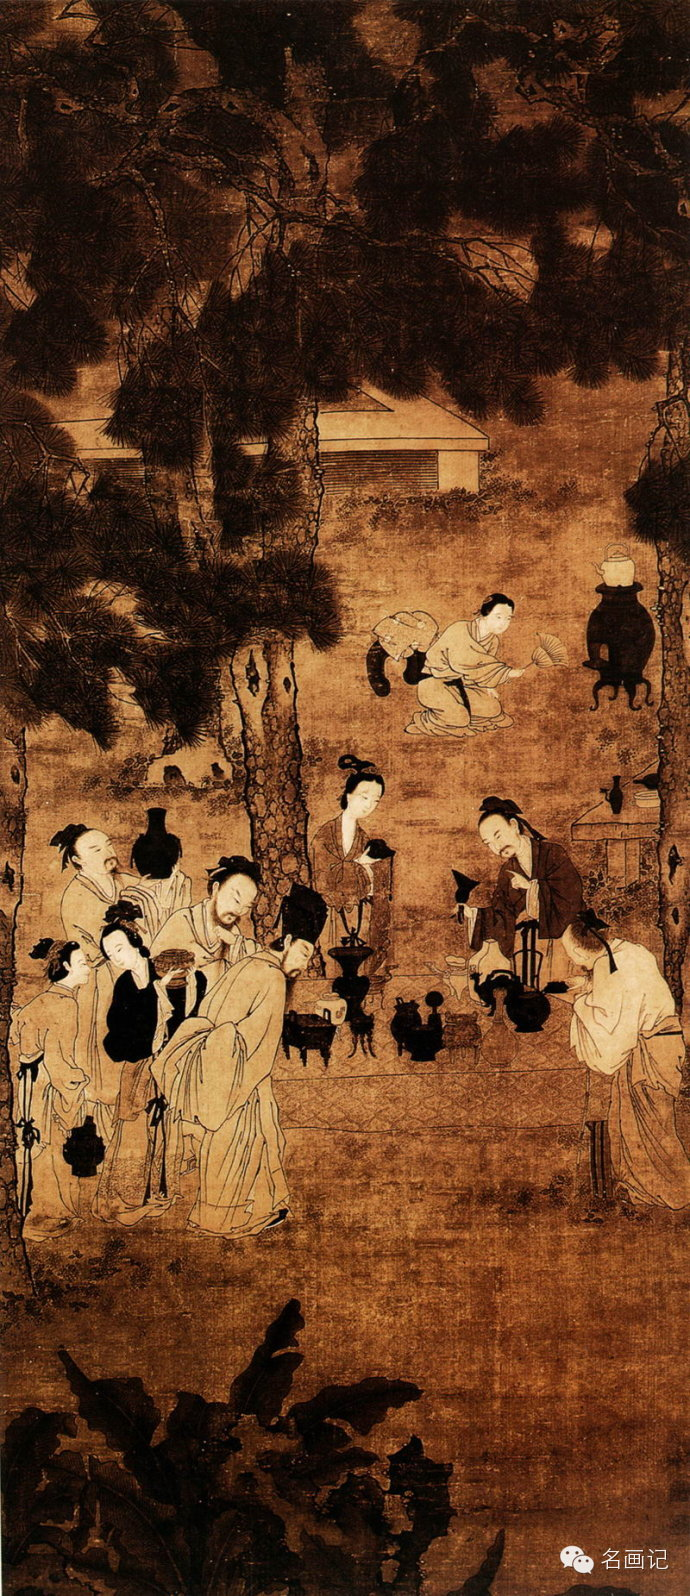man: (148, 881, 337, 1240), (554, 909, 690, 1207), (45, 813, 141, 1144), (453, 789, 595, 998), (144, 845, 255, 981), (126, 799, 194, 937)
tree: (1, 9, 679, 946)
woman: (18, 925, 107, 1239), (100, 905, 171, 1236), (413, 583, 516, 739), (329, 752, 393, 977)
